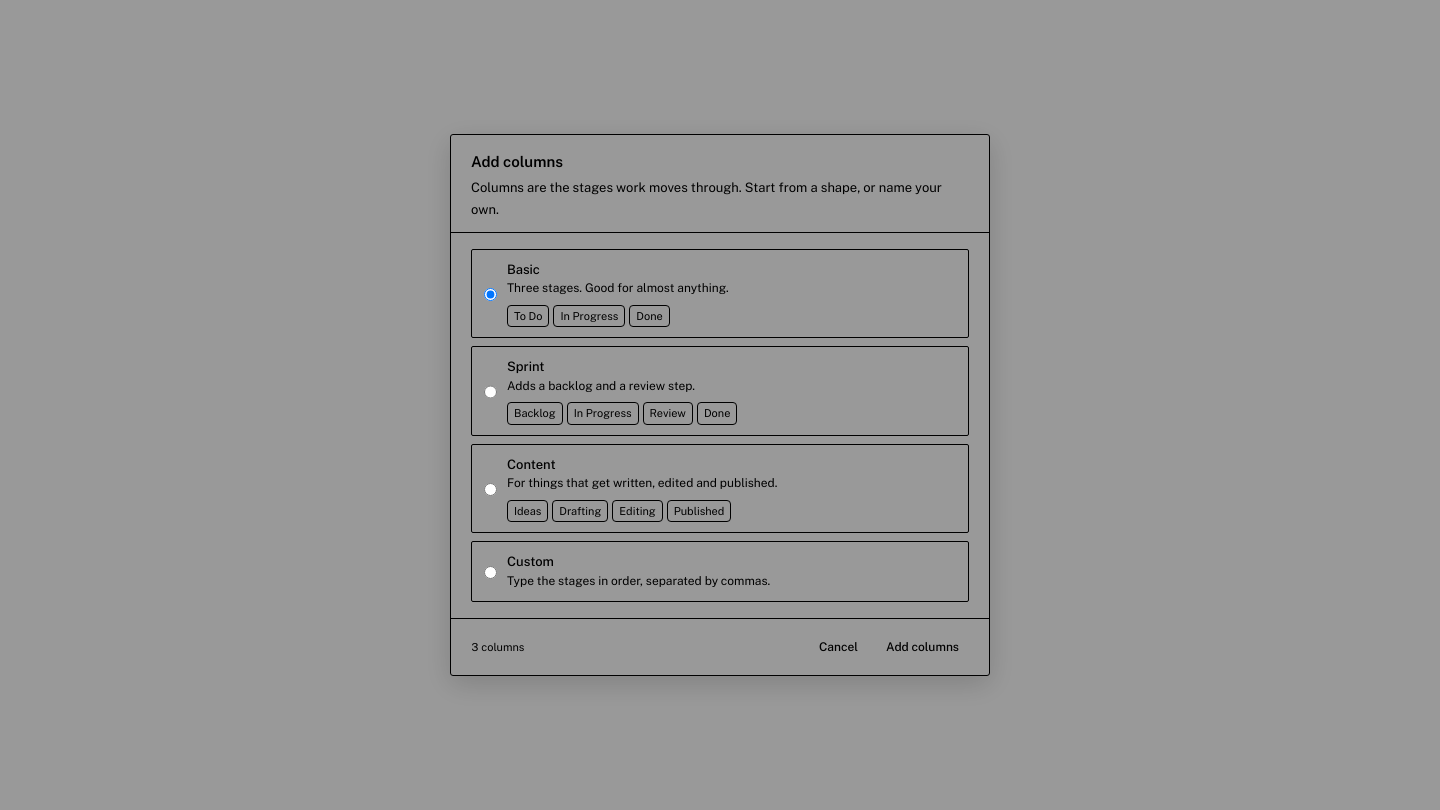
Test case: SeedColumnsDialog › says the ceiling before the server has to
This screenshot has width=1440, height=810.
Click the radio button labelled "Custom Type the stages in order, separated by commas." at (490, 573), box [484,554,497,591]
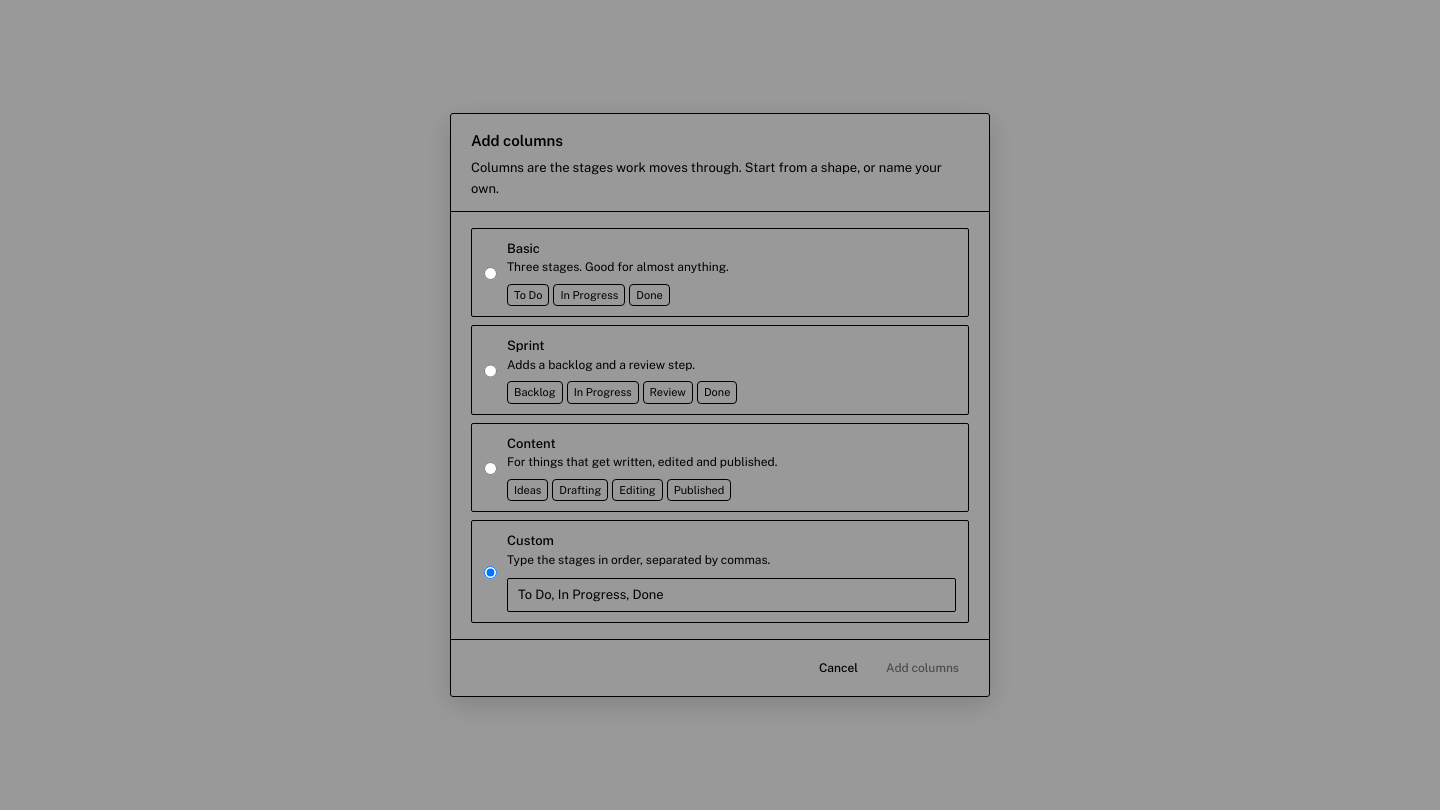
Type "a,b,c,d,e,f,g,h,i" into the field named "Column names, separated by commas" at (732, 595), box [507,578,956,612]
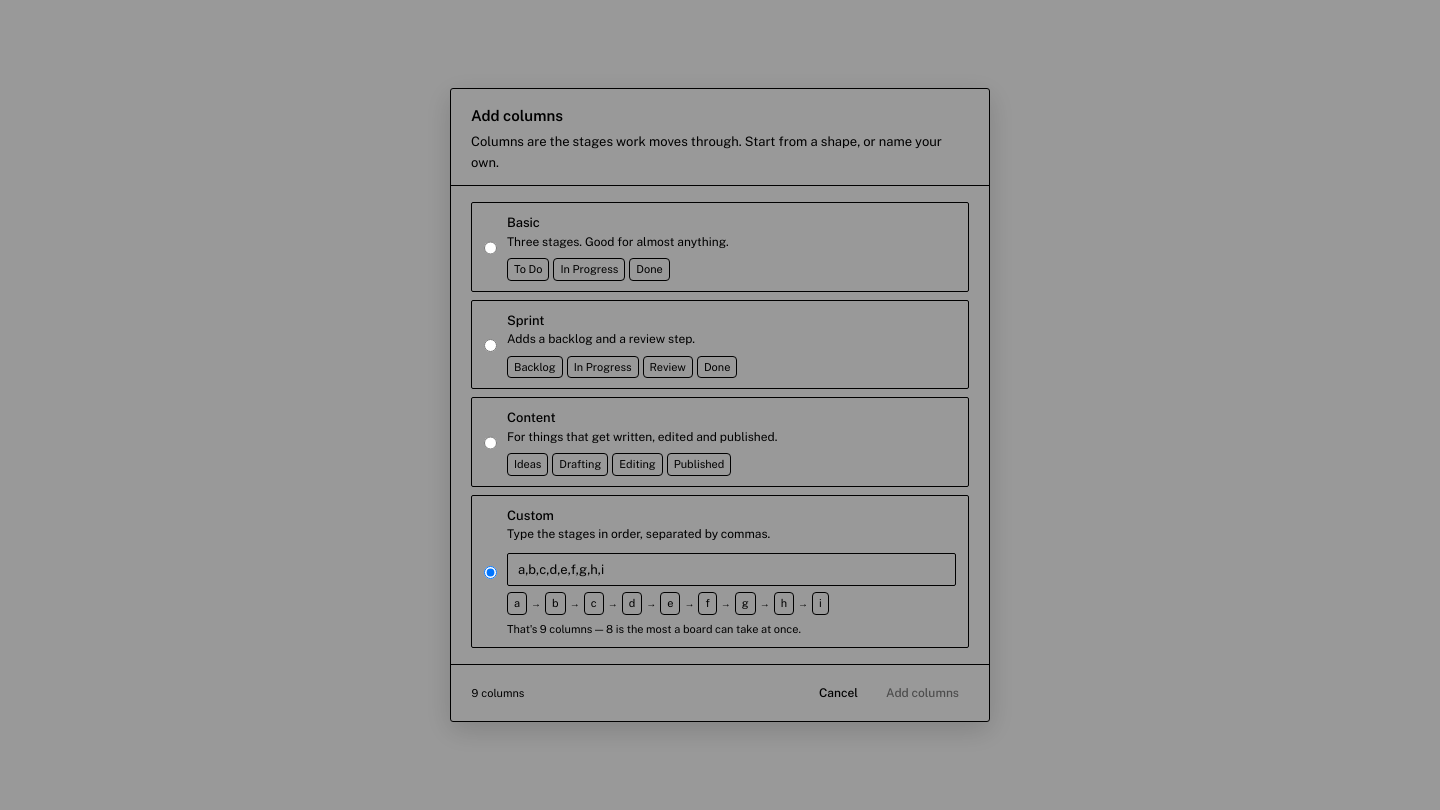
Check: the button "Add columns" is disabled, box [876,679,969,707]
Check: the message shows "8 is the most", box [507,623,801,635]
